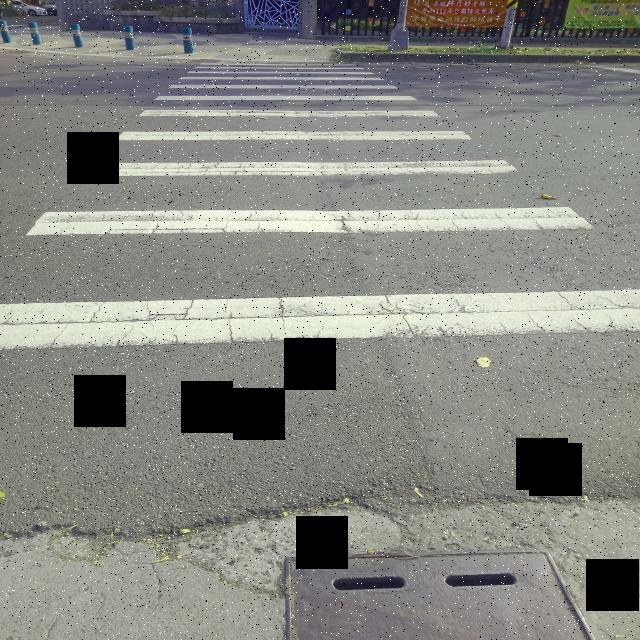zebra crossing: (8, 67, 640, 355)
